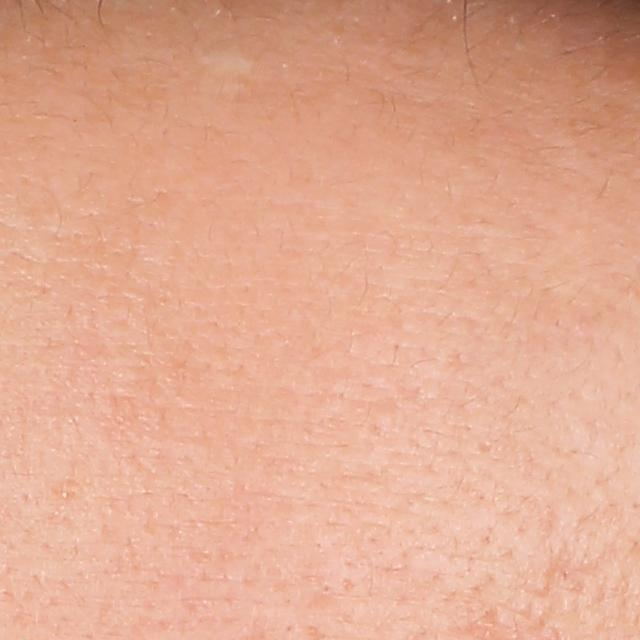other: (189, 43, 260, 80)
